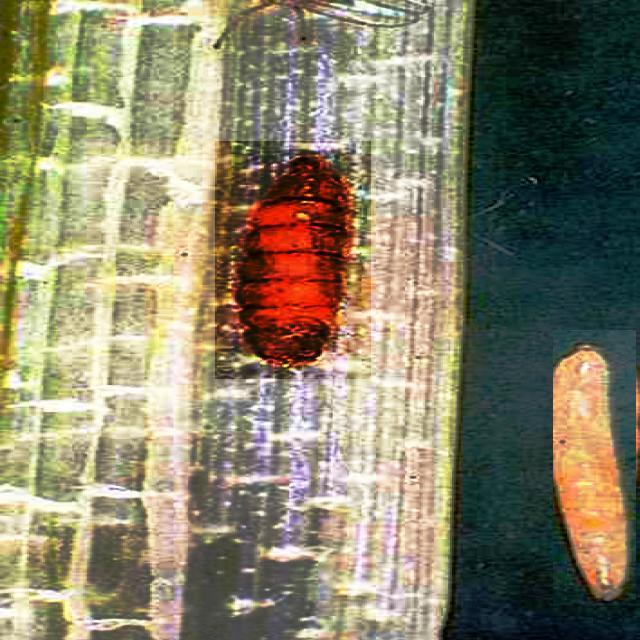whorl-maggot: (215, 141, 371, 379), (553, 331, 636, 607)
